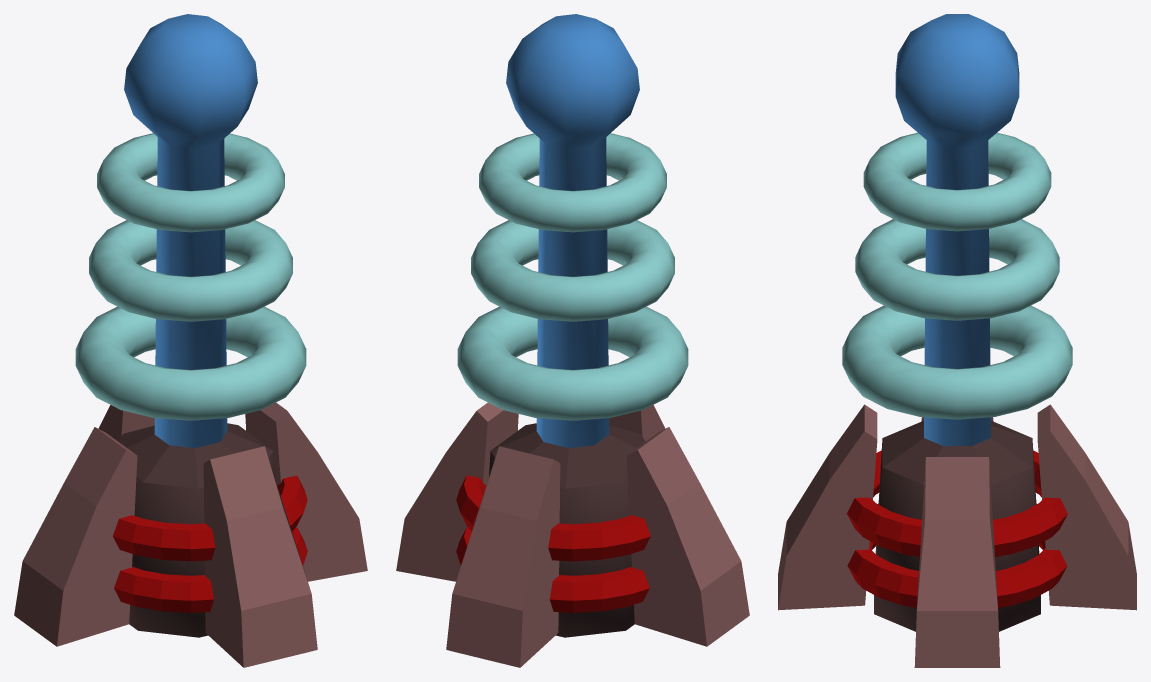
The model's file is tesla.fbx.
3 renders of one model, left to right at view 1: azimuth 30°, elevation 25°; view 2: azimuth 150°, elevation 25°; view 3: azimuth 270°, elevation 25°, orthographic.
Visible parts, largest first — view 1: base, coil, bar; view 2: base, coil, bar; view 3: base, coil, bar.
Boxes of the visible parts, bbox=[...] form: base: bbox=[14, 402, 367, 667]; coil: bbox=[75, 133, 306, 420]; bar: bbox=[124, 14, 257, 447]; base: bbox=[396, 402, 749, 667]; coil: bbox=[457, 133, 688, 420]; bar: bbox=[506, 14, 639, 447]; base: bbox=[778, 404, 1136, 667]; coil: bbox=[842, 132, 1072, 419]; bar: bbox=[895, 14, 1019, 445].
Bounding box in the file's own units: 88.28 × 155 × 88.28.
